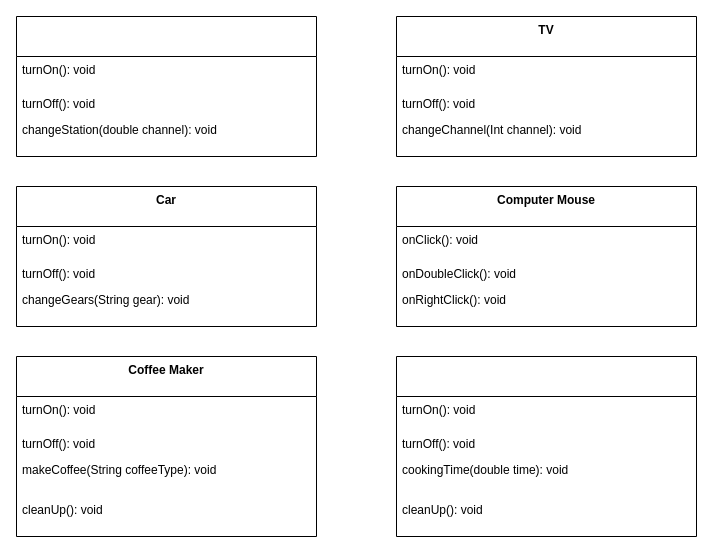
This 713x553 diagram has some shape labels left out. Each missing label, with the box of its shape:
Microwave: (396, 356, 696, 536)
RADIO: (16, 16, 316, 156)
